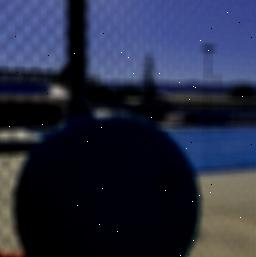algae: (11, 111, 204, 257)
